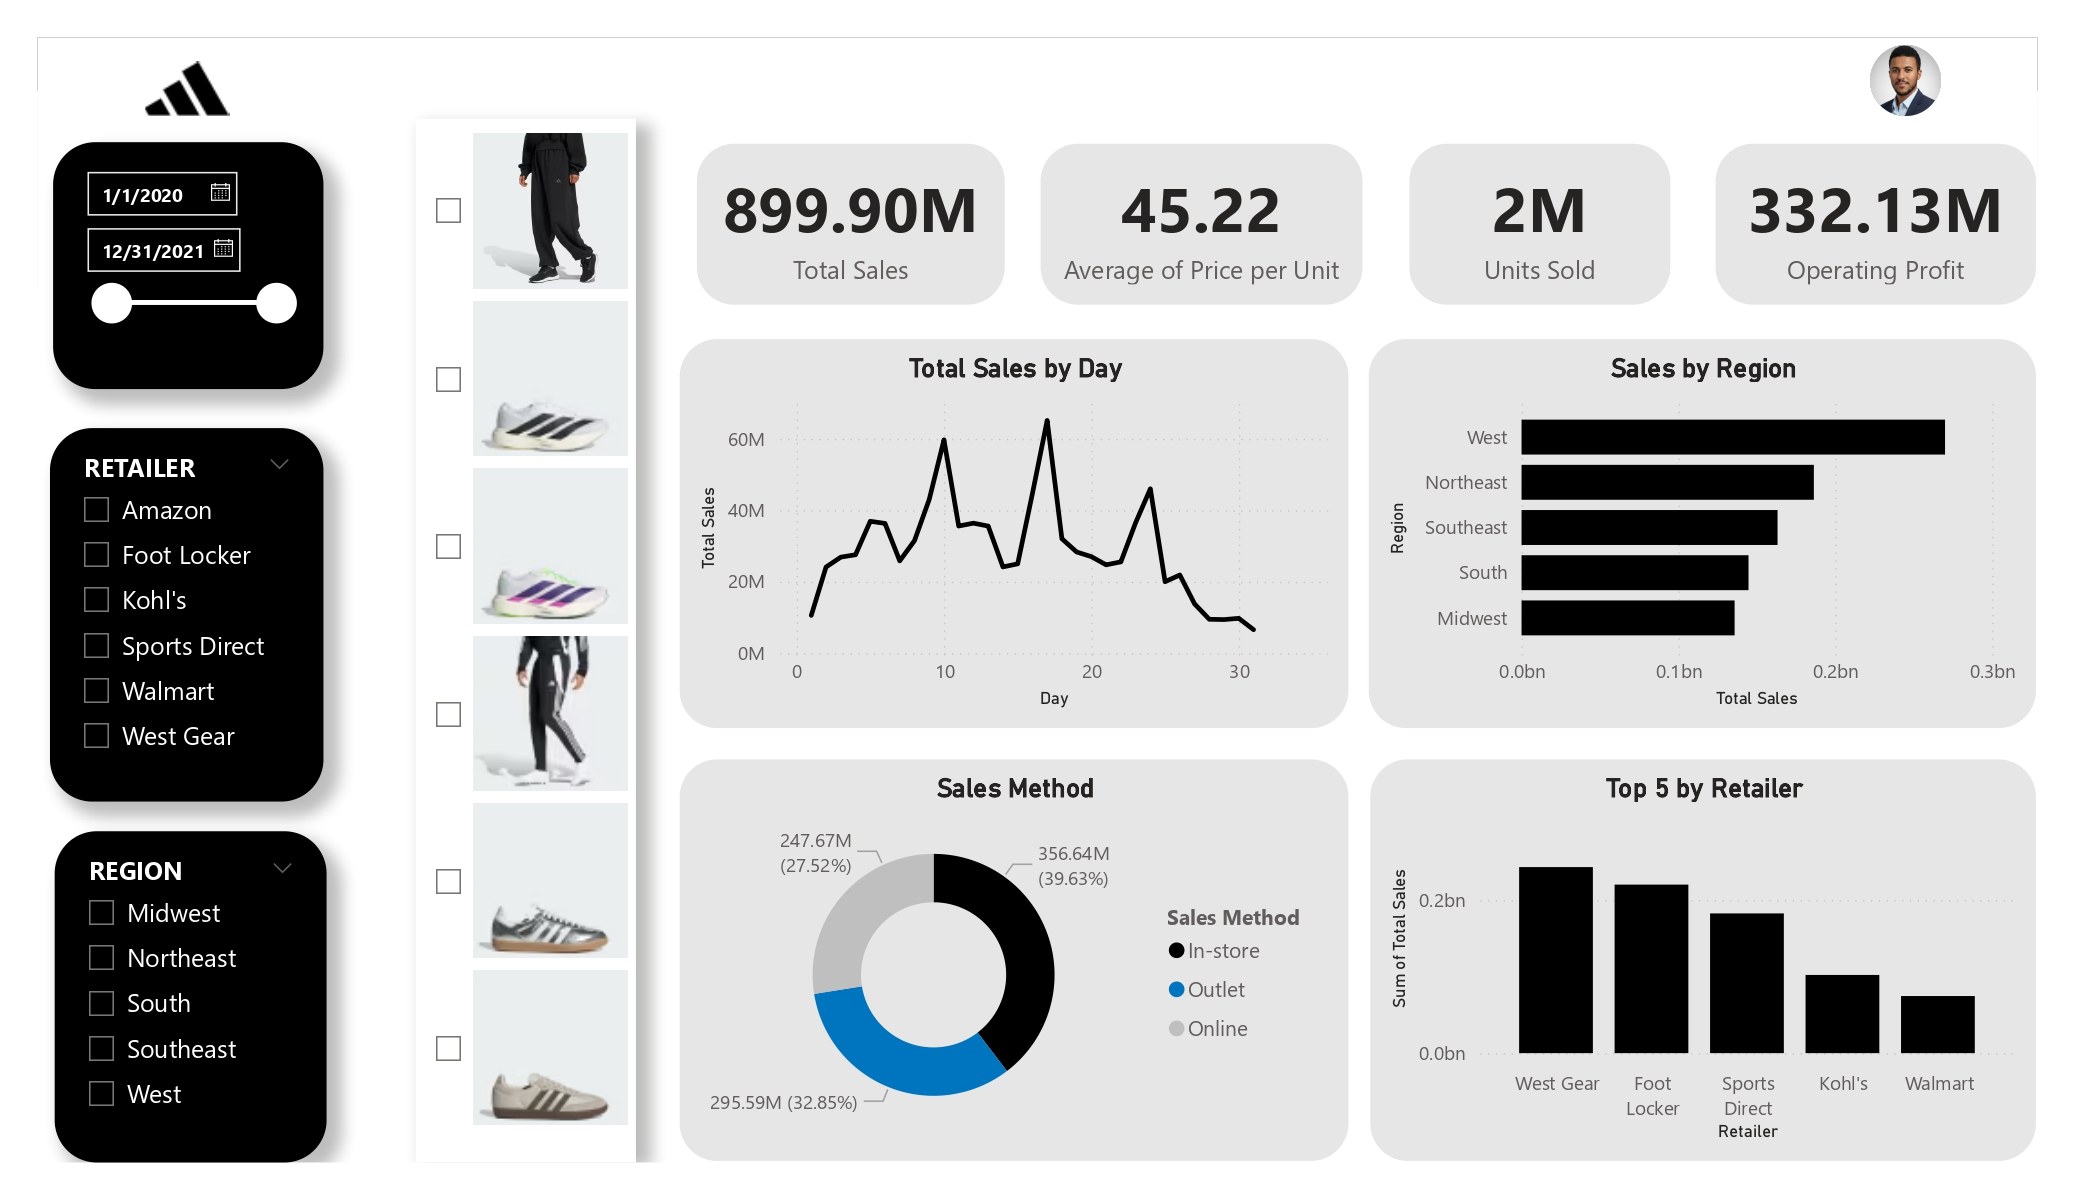

This screenshot's page, from the dashboard's own definition file:
{"tool":"powerbi","page":{"name":"Adidas Dashboard","canvas":[2200,1200],"ordinal":0},"visuals":[{"type":"card","fields":{"Values":["Sum(Data Sales Adidas (2).Total Sales)"]},"box":[668.5,132.5,293.5,173.2],"z":0},{"type":"card","fields":{"Values":["Sum(Data Sales Adidas (2).Units Sold)"]},"box":[1418.5,132.5,328.1,173.2],"z":1000},{"type":"card","fields":{"Values":["Sum(Data Sales Adidas (2).Operating Profit)"]},"box":[1817.9,132.5,305.7,173.2],"z":2000},{"type":"card","fields":{"Values":["Avg(Data Sales Adidas (2).Price per Unit)"]},"box":[1037.4,126.4,277.2,173.2],"z":3000},{"type":"pieChart","fields":{"Y":["Sum(Data Sales Adidas (2).Total Sales)"],"Category":["Data Sales Adidas (2).Region"]},"box":[670.5,336.3,582.9,364.8],"z":4000},{"type":"clusteredColumnChart","fields":{"Category":["Data Sales Adidas (2).Retailer"],"Y":["Sum(Data Sales Adidas (2).Total Sales)"]},"box":[1284,766.3,868.2,411.7],"z":5000},{"type":"donutChart","fields":{"Category":["Data Sales Adidas (2).Sales Method"],"Y":["Sum(Data Sales Adidas (2).Total Sales)"]},"box":[668.5,790.8,582.9,364.8],"z":6000},{"type":"lineChart","fields":{"Y":["Sum(Data Sales Adidas (2).Total Sales)"],"Category":["Data Sales Adidas (2).Invoice Date.Variation.Date Hierarchy.Day"]},"box":[1284,336.3,868.2,364.8],"z":7000},{"type":"textbox","box":[165.1,8.2,613.5,65.2],"z":8000},{"type":"image","box":[165.1,0,77.4,73.4],"z":9000},{"type":"slicer","fields":{"Values":["Products (2).ProductImageURL"]},"box":[38.7,699.1,570.7,456.5],"z":13000},{"type":"slicer","fields":{"Values":["Data Sales Adidas (2).Invoice Date.Variation.Date Hierarchy.Month"]},"box":[122.3,126.4,403.5,122.3],"z":13002},{"type":"slicer","fields":{"Values":["Data Sales Adidas (2).Retailer"]},"box":[40.8,299.6,568.6,381.1],"z":13003},{"type":"image","box":[1970.8,8.2,103.9,85.6],"z":13004}]}

Visuals, with their boxes on the page's 2200x1200 design canvas (x1, y1, x2, y2). These are canvas units, not pixel positions in the 2075x1200 screenshot, which may show the page scaled, cropped or inside an application window:
card - Sum(Data Sales Adidas (2).Total Sales): left=668, top=132, right=962, bottom=306
card - Sum(Data Sales Adidas (2).Units Sold): left=1418, top=132, right=1747, bottom=306
card - Sum(Data Sales Adidas (2).Operating Profit): left=1818, top=132, right=2124, bottom=306
card - Avg(Data Sales Adidas (2).Price per Unit): left=1037, top=126, right=1315, bottom=300
pieChart - Sum(Data Sales Adidas (2).Total Sales) x Data Sales Adidas (2).Region: left=670, top=336, right=1253, bottom=701
clusteredColumnChart - Data Sales Adidas (2).Retailer x Sum(Data Sales Adidas (2).Total Sales): left=1284, top=766, right=2152, bottom=1178
donutChart - Data Sales Adidas (2).Sales Method x Sum(Data Sales Adidas (2).Total Sales): left=668, top=791, right=1251, bottom=1156
lineChart - Sum(Data Sales Adidas (2).Total Sales) x Data Sales Adidas (2).Invoice Date.Variation.Date Hierarchy.Day: left=1284, top=336, right=2152, bottom=701
textbox: left=165, top=8, right=779, bottom=73
image: left=165, top=0, right=242, bottom=73
slicer - Products (2).ProductImageURL: left=39, top=699, right=609, bottom=1156
slicer - Data Sales Adidas (2).Invoice Date.Variation.Date Hierarchy.Month: left=122, top=126, right=526, bottom=249
slicer - Data Sales Adidas (2).Retailer: left=41, top=300, right=609, bottom=681
image: left=1971, top=8, right=2075, bottom=94
